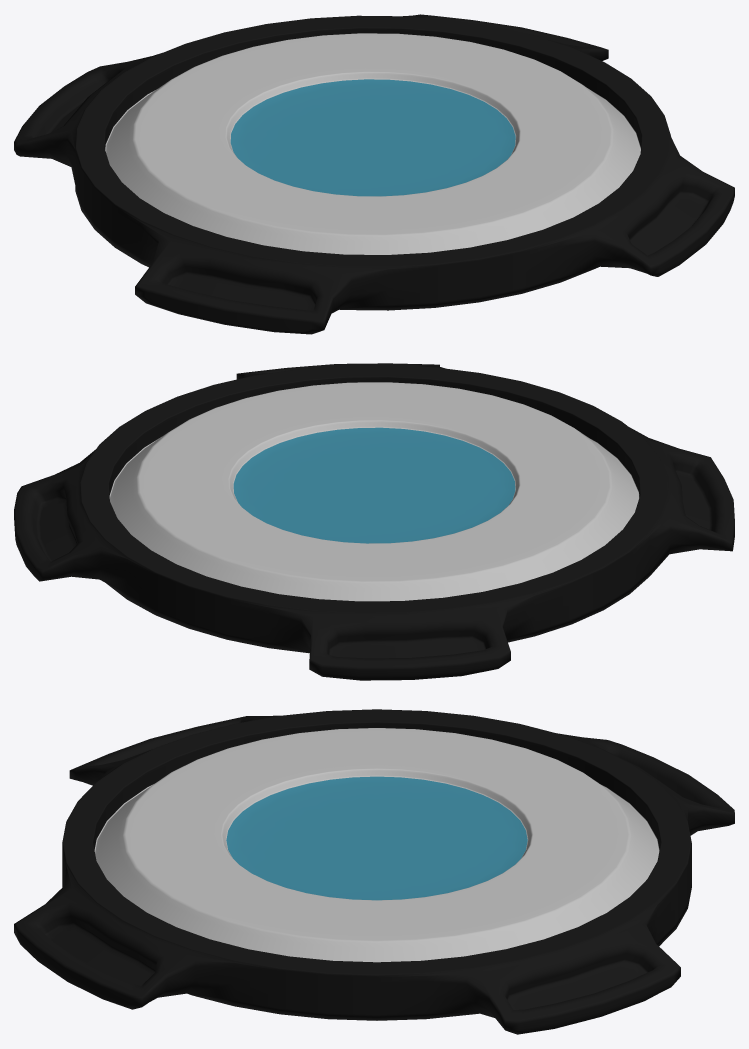
The model's file is Jump_pad_pivot_fix.fbx.
3 renders of one model, top to bottom at view 1: azimuth 30°, elevation 25°; view 2: azimuth 150°, elevation 25°; view 3: azimuth 270°, elevation 25°, orthographic. The views are drawn at different scales.
Parts seen in each view (by area): view 1: pCylinder1; view 2: pCylinder1; view 3: pCylinder1.
Boxes of the visible parts, bbox=[...] form: pCylinder1: bbox=[14, 14, 734, 334]; pCylinder1: bbox=[14, 363, 734, 680]; pCylinder1: bbox=[14, 709, 734, 1034].
Size of the model in its own units: 28.25 by 2.32 by 28.02.
